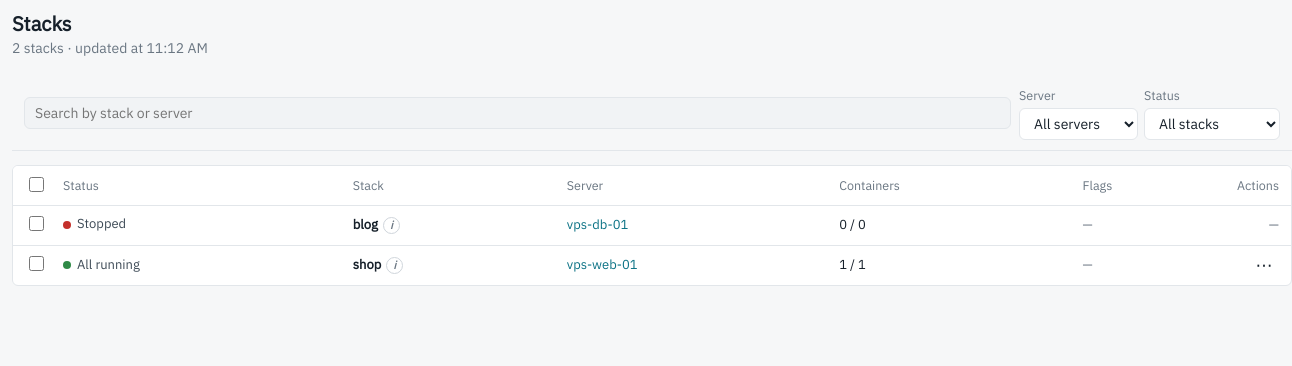
Stacks › disables a bulk action when a selected stack is not permitted
Expected: the link "blog" is shown, [353,216,378,234]
Click the checkbox named "Select all" at (36, 185), box [29,177,44,192]
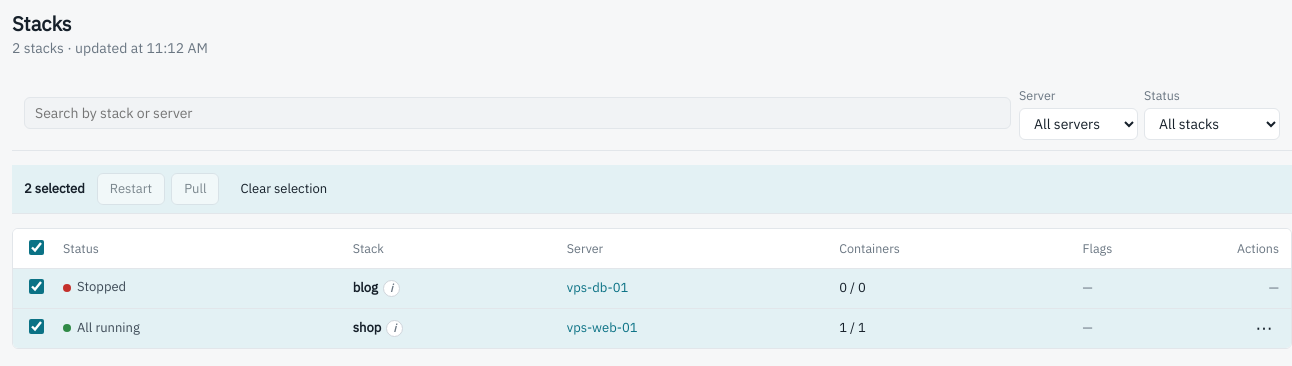
Expected: the button "Restart" is disabled, [97,173,165,205]
